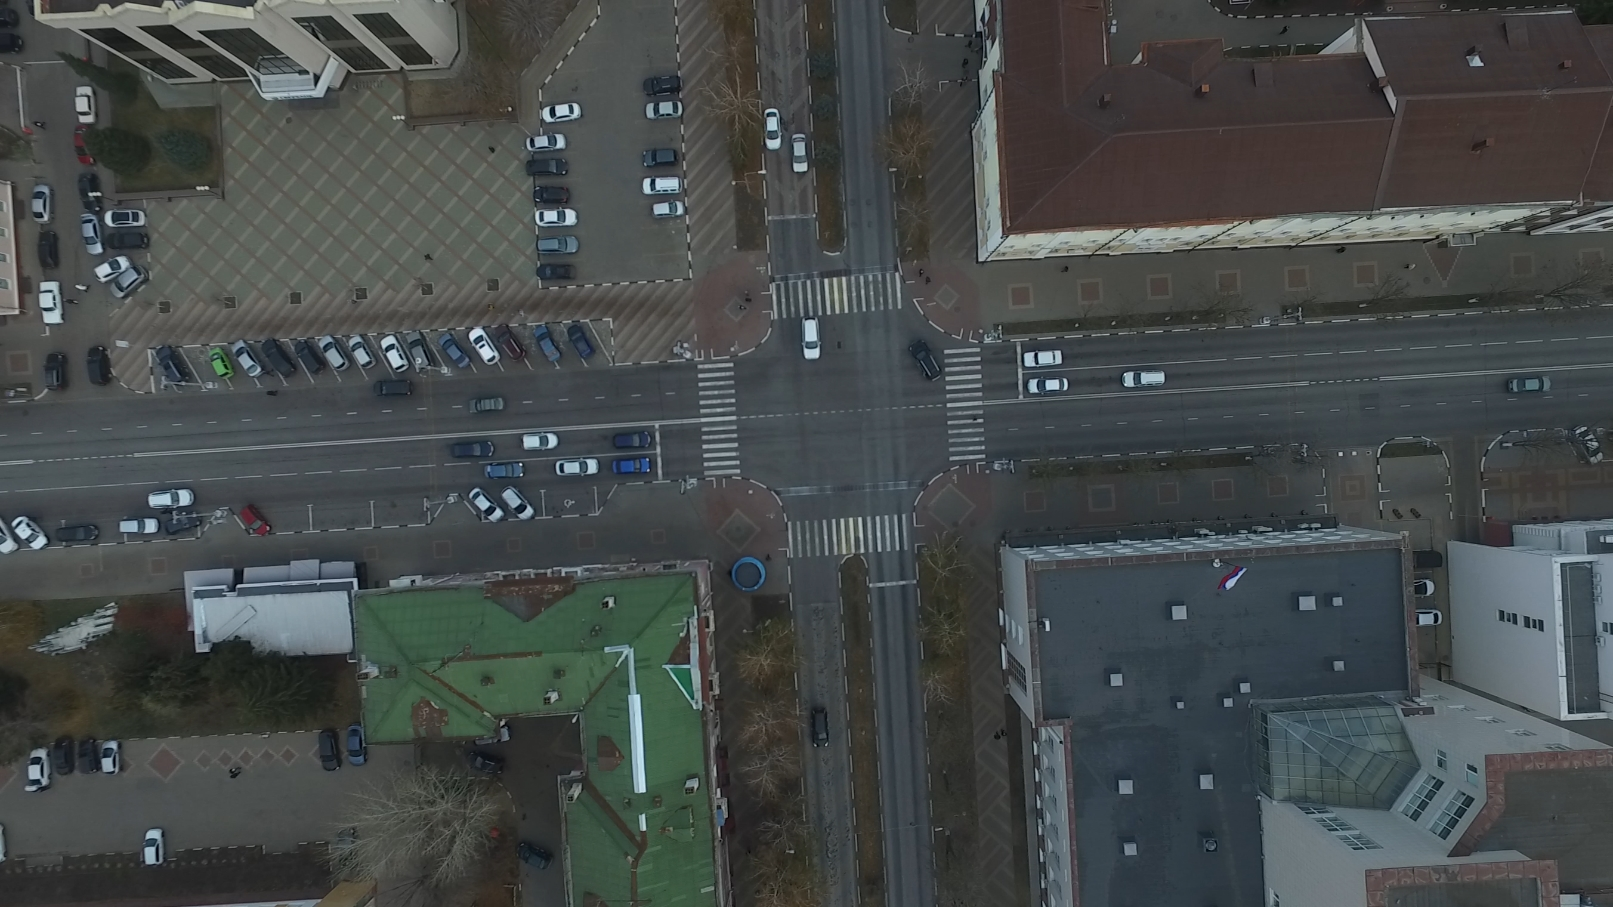car: (902, 339, 949, 383), (150, 343, 191, 385), (106, 265, 153, 300), (465, 488, 506, 525), (102, 220, 151, 250), (261, 334, 296, 377), (1572, 422, 1606, 464), (315, 333, 350, 373), (229, 340, 265, 380), (37, 282, 66, 328), (495, 324, 530, 363), (470, 326, 504, 364), (12, 517, 47, 555), (402, 330, 432, 372), (317, 726, 343, 773), (333, 824, 361, 868), (533, 320, 563, 361), (435, 329, 469, 365), (27, 744, 52, 792), (797, 316, 822, 363), (377, 333, 409, 371), (517, 839, 556, 870), (500, 487, 534, 522), (466, 746, 505, 776), (641, 72, 687, 97), (78, 214, 104, 257), (345, 334, 378, 369), (25, 184, 53, 225), (292, 338, 323, 374), (142, 825, 168, 867), (92, 256, 132, 284), (157, 509, 201, 535), (70, 125, 95, 168), (79, 174, 105, 215), (555, 454, 604, 476), (1116, 368, 1167, 389), (84, 344, 110, 386), (70, 84, 97, 122), (480, 460, 528, 481), (533, 206, 578, 228), (239, 502, 270, 534), (566, 324, 595, 359), (343, 721, 366, 764), (538, 102, 584, 123), (53, 735, 78, 774), (147, 489, 197, 508), (106, 207, 148, 229), (207, 346, 234, 380), (644, 99, 687, 120), (44, 348, 66, 389), (523, 156, 571, 175), (374, 378, 414, 400), (536, 234, 581, 254), (53, 525, 100, 544), (1506, 375, 1552, 394), (96, 739, 121, 774), (37, 229, 59, 268), (810, 709, 832, 748), (449, 440, 496, 457), (641, 175, 684, 195), (76, 736, 99, 774), (641, 147, 679, 169), (1023, 377, 1069, 394), (468, 396, 508, 416), (531, 182, 571, 202), (790, 134, 810, 174), (528, 133, 571, 152), (764, 109, 783, 150), (534, 262, 577, 280), (649, 199, 687, 219), (613, 430, 653, 449), (523, 432, 561, 451), (119, 518, 158, 535), (1414, 548, 1445, 569), (612, 458, 654, 474), (1021, 350, 1064, 365), (1, 516, 18, 555), (1412, 577, 1437, 600), (1412, 610, 1444, 627), (1, 34, 25, 52)
